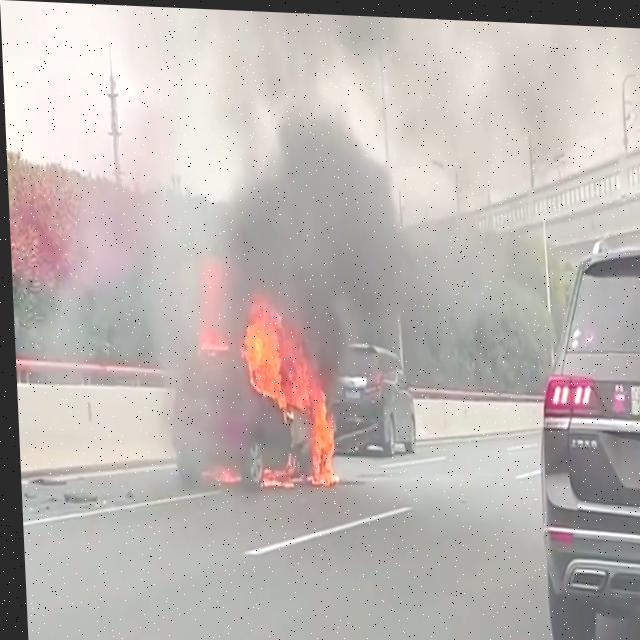normal: (544, 61, 639, 640)
single accident: (142, 242, 353, 489)
